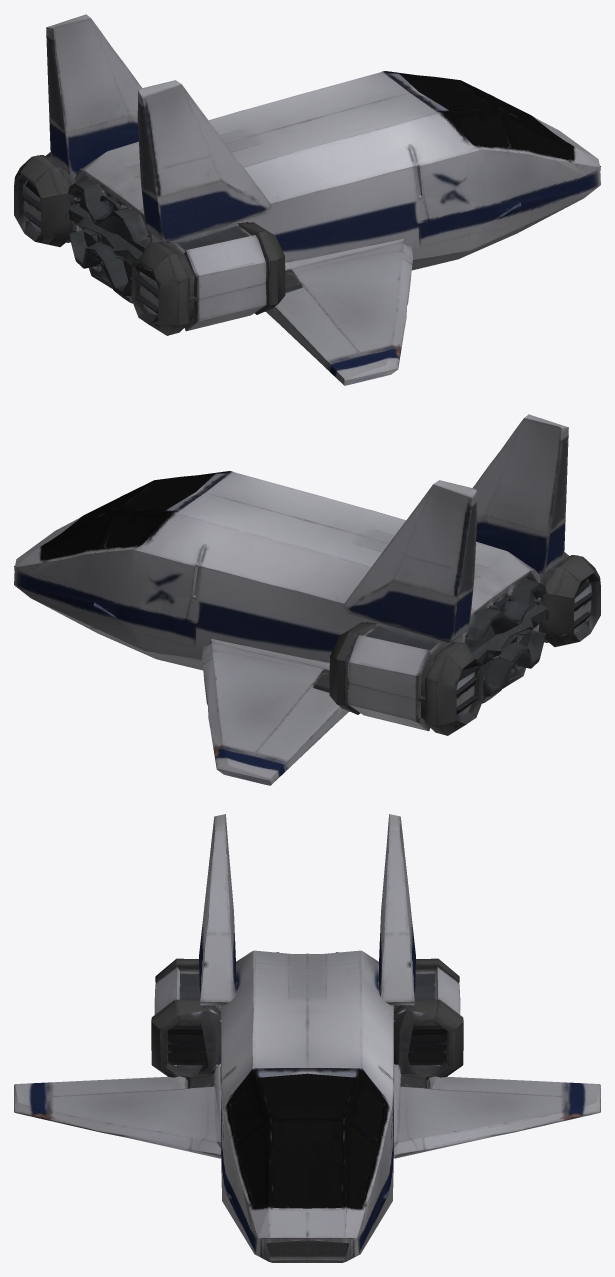
The model's file is nave_25.obj.
3 renders of one model, top to bottom at view 1: azimuth 30°, elevation 25°; view 2: azimuth 150°, elevation 25°; view 3: azimuth 270°, elevation 25°, orthographic. The views are drawn at different scales.
Visible parts, largest first — view 1: geometry_0; view 2: geometry_0; view 3: geometry_0.
Part boxes in pixels (<box>): geometry_0: <box>14,14,600,385</box>; geometry_0: <box>14,414,600,785</box>; geometry_0: <box>14,814,600,1262</box>.
Size of the model in its own units: 6.55 by 3.29 by 7.
Materials: 1 (1 with a texture image).
